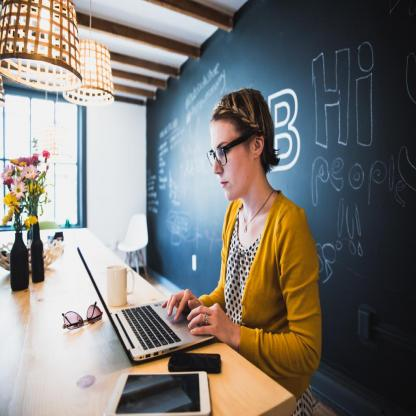board: (77, 246, 215, 365)
